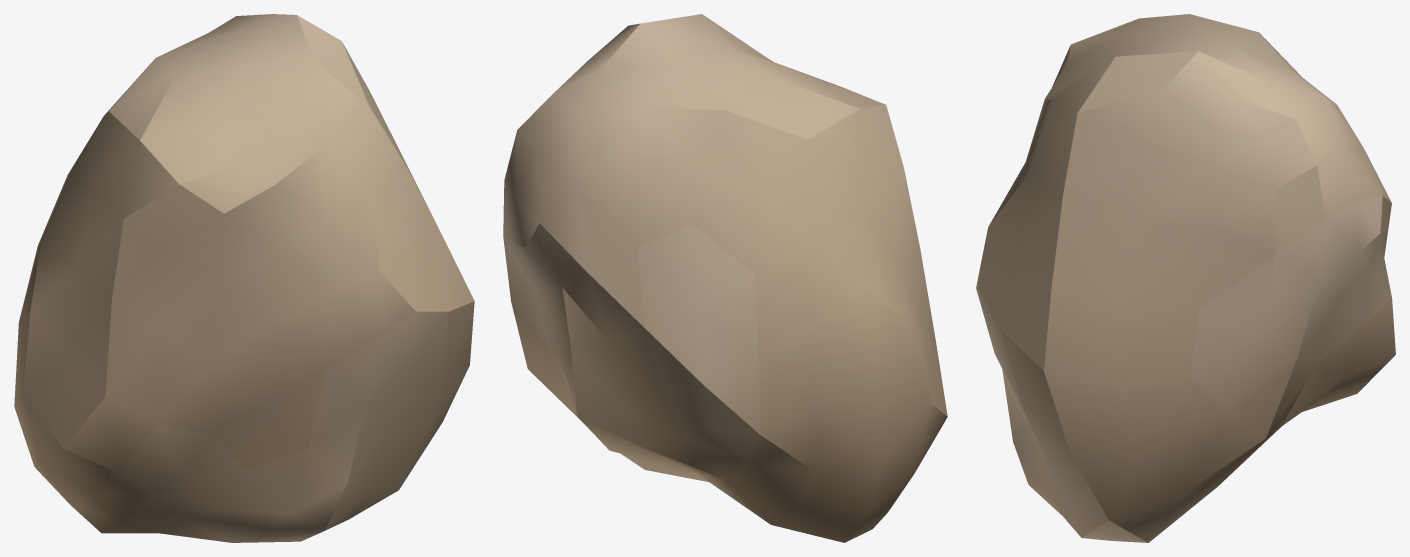
Rendered from Rock_3_P_Color7.fbx.
3 views of the same model, side by side, from view 1: azimuth 30°, elevation 25°; view 2: azimuth 150°, elevation 25°; view 3: azimuth 270°, elevation 25° (orthographic). The views are drawn at different scales.
Visible parts, largest first — view 1: Rock_3_P_Color7; view 2: Rock_3_P_Color7; view 3: Rock_3_P_Color7.
Part boxes in pixels (x1,y1,x2,y2): Rock_3_P_Color7: (14, 14, 474, 542); Rock_3_P_Color7: (503, 14, 947, 542); Rock_3_P_Color7: (976, 14, 1395, 542).
Bounding box in the file's own units: 3.29 × 3.68 × 2.87.
